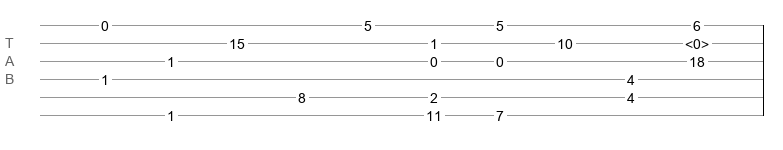0: (101, 18, 109, 28), (430, 54, 438, 64), (496, 54, 504, 64)
1: (101, 72, 109, 82), (167, 108, 175, 118), (167, 54, 175, 64), (430, 36, 438, 46)
10: (557, 36, 573, 46)
11: (426, 108, 442, 118)
15: (229, 36, 245, 46)
18: (689, 54, 705, 64)
2: (430, 90, 438, 100)
4: (627, 72, 635, 82), (627, 90, 635, 100)
5: (364, 18, 372, 28), (496, 18, 504, 28)
6: (693, 18, 701, 28)
7: (496, 108, 504, 118)
8: (298, 90, 306, 100)
harmonic: (685, 36, 709, 46)
